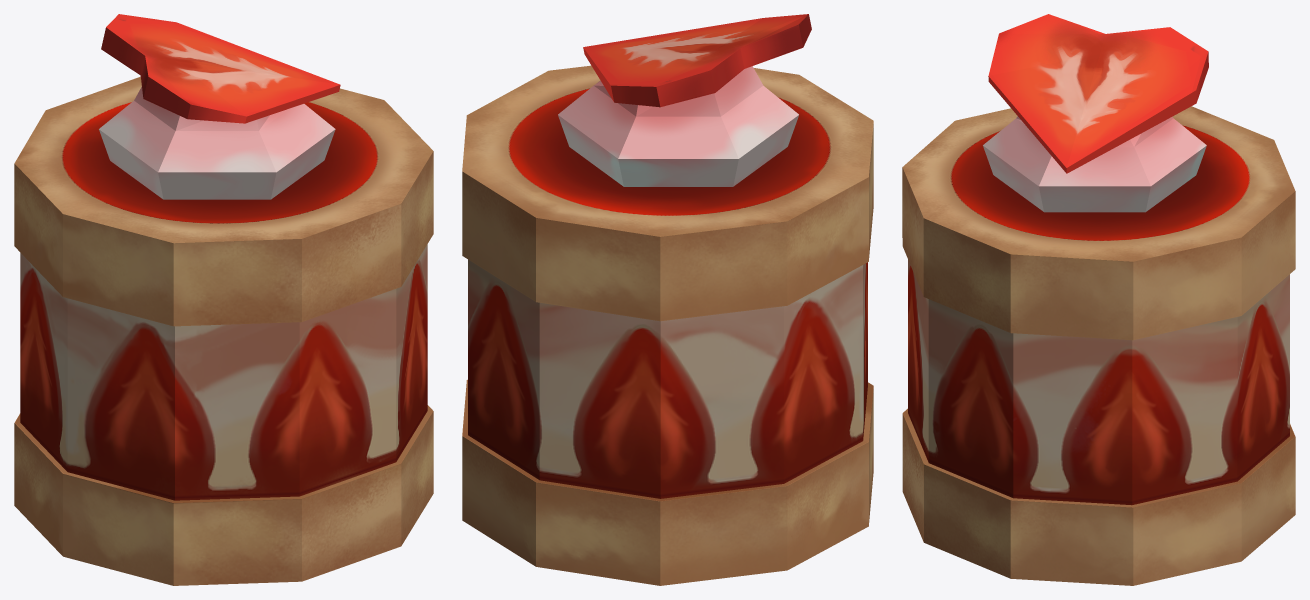
The model's file is 2tier_4.glb.
3 views of the same model, side by side, from view 1: azimuth 30°, elevation 25°; view 2: azimuth 150°, elevation 25°; view 3: azimuth 270°, elevation 25° (orthographic). The views are drawn at different scales.
Size of the model in its own units: 0.8555 by 1.07 by 0.8599.
3 materials, 3 textured.
